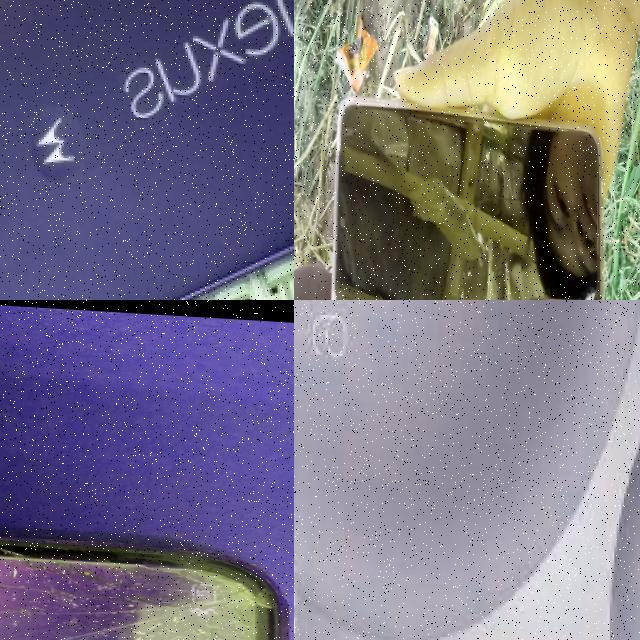screen crack: (0, 534, 265, 640), (336, 102, 369, 162)
